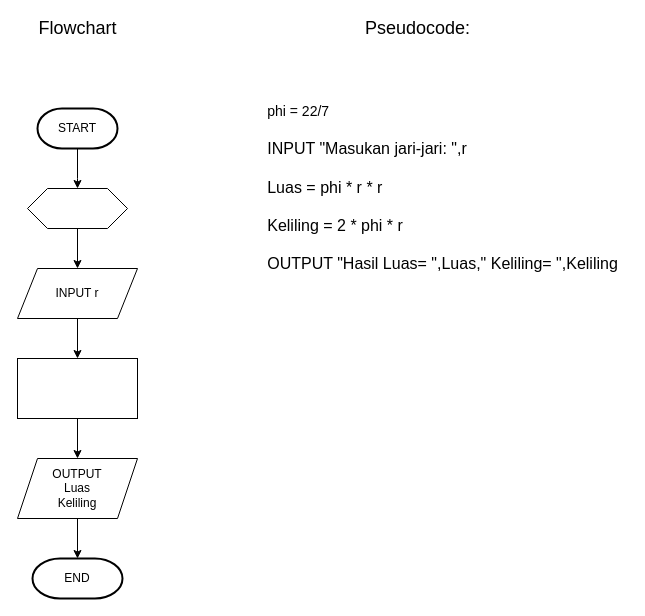
Image size: 645x616. Some labels were removed from this diagram. The shapes that lost their labels are listed below. From the top down, each one's box as (x1, y1, x2, y2) in pixels, then its label:
(26, 188, 128, 228): phi= 22/7
(16, 358, 138, 418): hitung: luas= phi* r * r keliling= 2* phi * r
